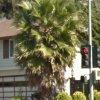Palm tree: (12, 7, 82, 100)
